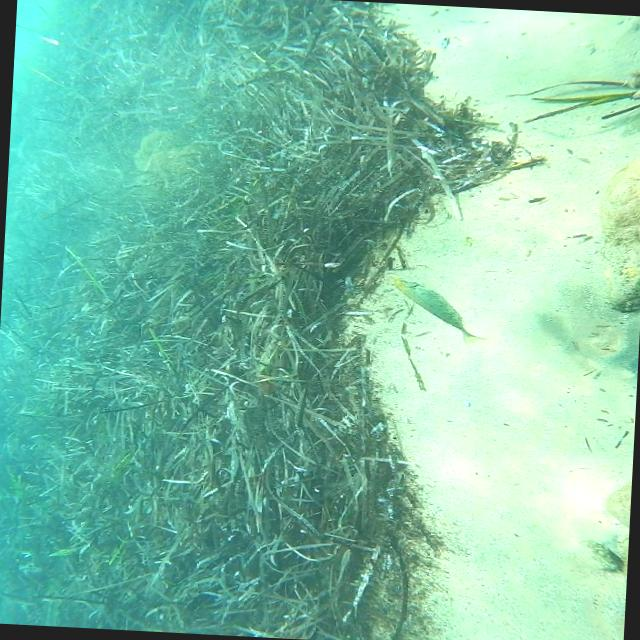Sokar Baligi: (371, 272, 497, 354)
